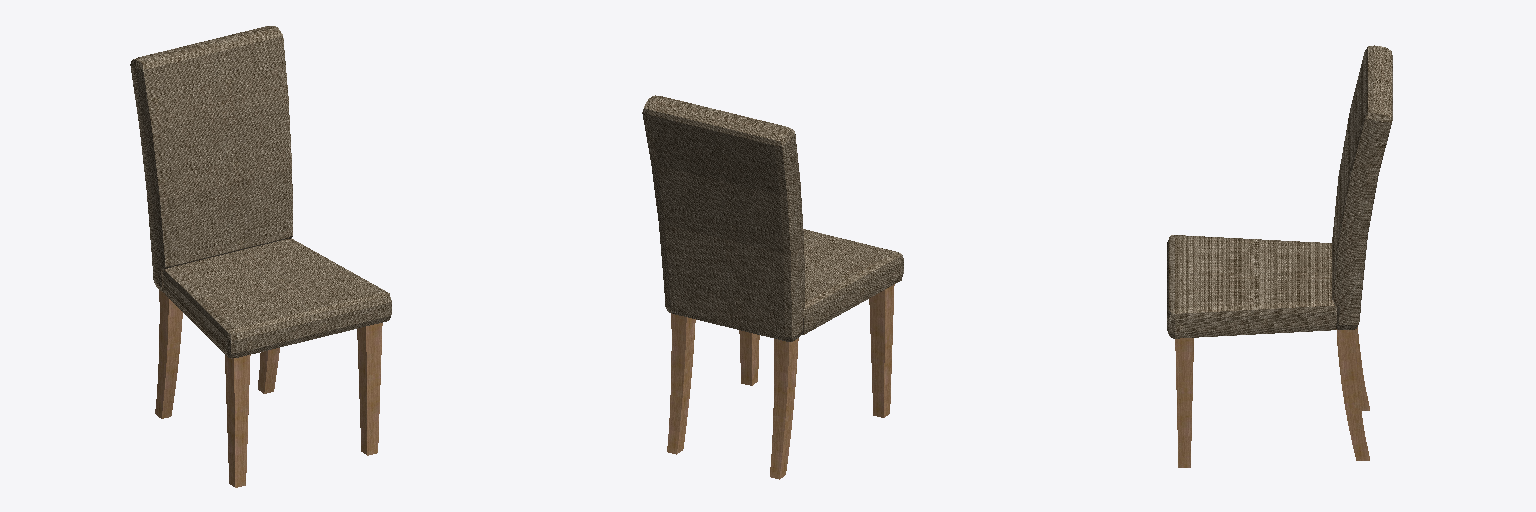
3 renders of one model, left to right at view 1: azimuth 30°, elevation 25°; view 2: azimuth 150°, elevation 25°; view 3: azimuth 270°, elevation 25°, orthographic.
Parts seen in each view (by area): view 1: Box008.008, Box001.008, Box006.008, Box005.008, Box007.008, Box004.008; view 2: Box008.008, Box001.008, Box007.008, Box004.008, Box006.008, Box005.008; view 3: Box001.008, Box008.008, Box004.008, Box005.008.
Part boxes in pixels (x1,y1,x2,y2): Box008.008: (130, 26, 292, 292); Box001.008: (163, 238, 391, 358); Box006.008: (225, 355, 250, 487); Box005.008: (357, 323, 382, 455); Box007.008: (155, 290, 182, 418); Box004.008: (258, 348, 279, 393); Box008.008: (642, 95, 804, 341); Box001.008: (802, 229, 903, 334); Box007.008: (770, 338, 798, 479); Box004.008: (667, 313, 695, 454); Box006.008: (869, 284, 894, 417); Box005.008: (739, 330, 759, 385); Box001.008: (1167, 235, 1337, 338); Box008.008: (1332, 45, 1392, 329); Box004.008: (1336, 329, 1369, 460); Box005.008: (1175, 338, 1193, 467).
Size of the model in its own units: 17.54 by 36.46 by 21.02.
2 materials, 2 textured.